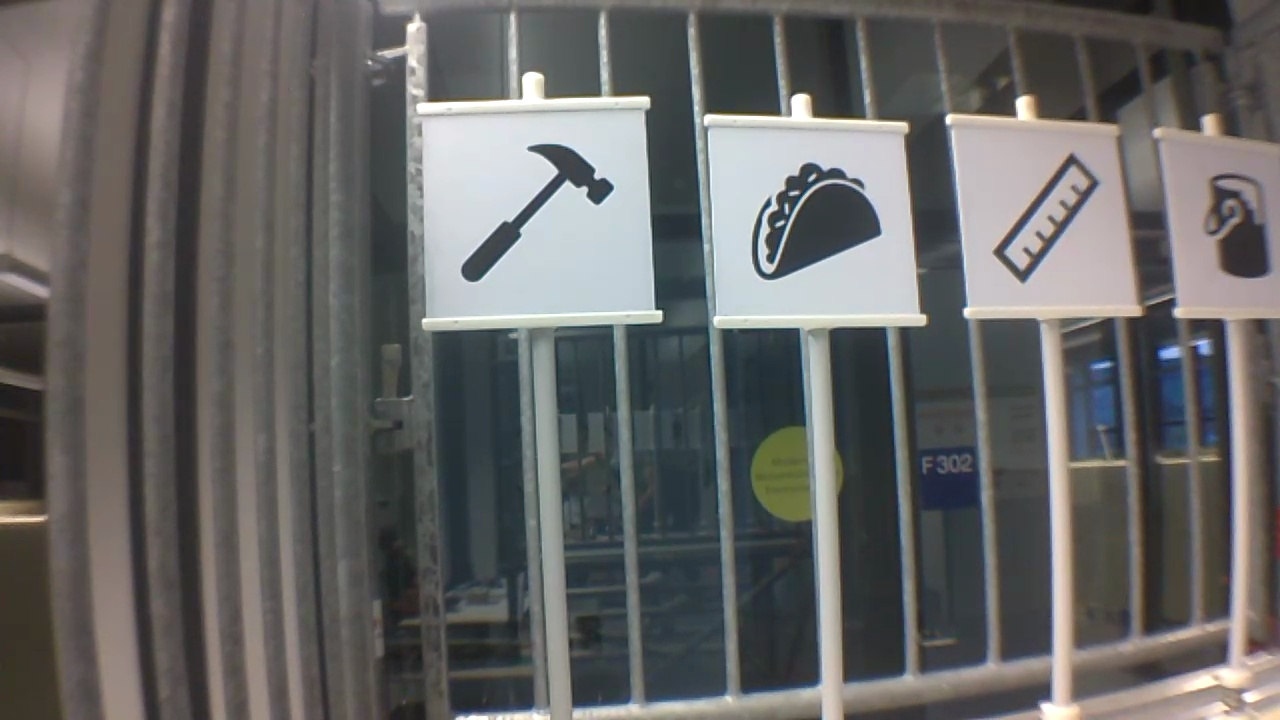bucket: (1197, 170, 1275, 282)
hammer: (455, 137, 620, 288)
ruler: (987, 146, 1105, 291)
taco: (746, 156, 888, 286)
